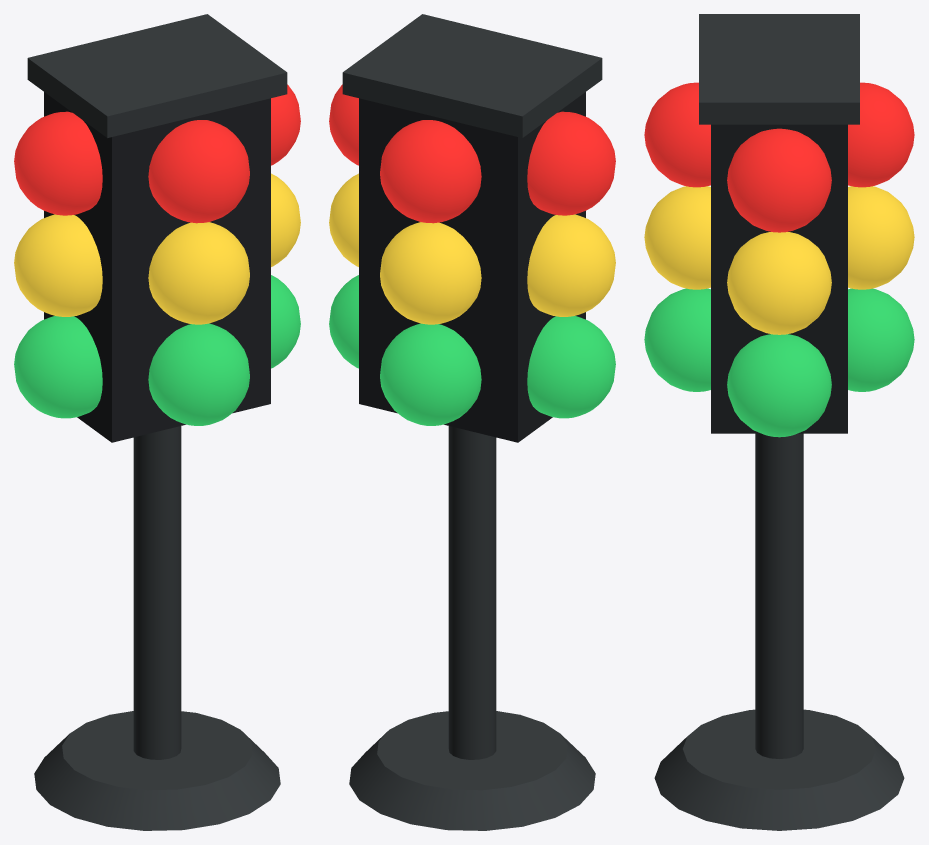
File: traffic_light.glb
The picture shows the model from 3 angles, left to right: view 1: azimuth 30°, elevation 25°; view 2: azimuth 150°, elevation 25°; view 3: azimuth 270°, elevation 25°; orthographic projection.
Size of the model in its own units: 0.79 by 1.97 by 0.67.
